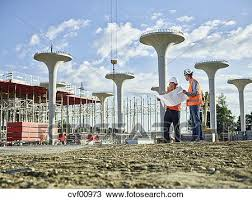helmet: (169, 76, 176, 84), (184, 69, 193, 75)
vest: (188, 82, 206, 105), (166, 90, 184, 111)
